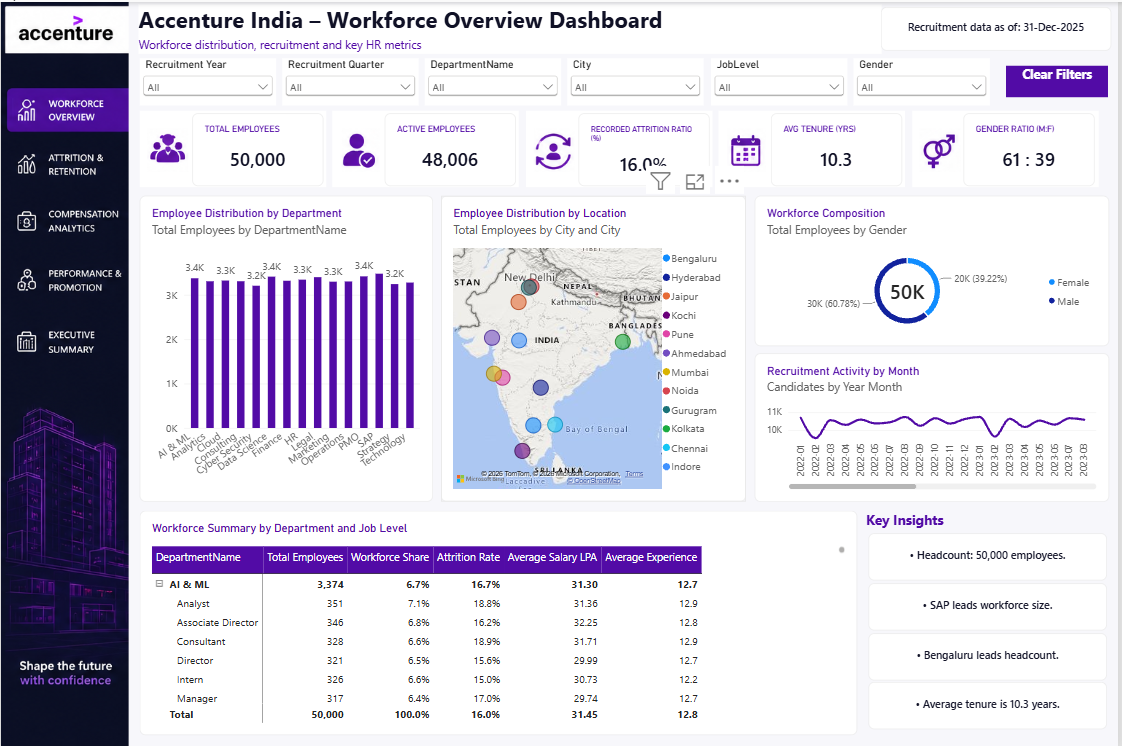

What the dashboard file says about the page in this screenshot:
{"tool":"powerbi","page":{"name":"Workforce Overview","canvas":[1536,1024],"ordinal":0},"visuals":[{"type":"textbox","box":[175,0,1361,1024],"z":1},{"type":"image","box":[0,0,175,1024],"z":2},{"type":"textbox","box":[188,4,1020,43],"z":8},{"type":"textbox","box":[188,46,1020,25],"z":9},{"type":"card","fields":{"Values":["DimEmployee.Reporting Date Label"]},"box":[1208,7,316,60],"z":10},{"type":"slicer","title":"Recruitment Year","fields":{"Values":["DimDate.Year"]},"box":[190,77,187,65],"z":11},{"type":"slicer","title":"Recruitment Quarter","fields":{"Values":["DimDate.Quarter"]},"box":[386,77,187,65],"z":12},{"type":"slicer","title":"Department","fields":{"Values":["DimDepartment.DepartmentName"]},"box":[582,77,187,65],"z":13},{"type":"slicer","title":"Location","fields":{"Values":["DimLocation.City"]},"box":[778,77,187,65],"z":14},{"type":"slicer","title":"Job Level","fields":{"Values":["DimJobLevel.JobLevel"]},"box":[974,77,187,65],"z":15},{"type":"slicer","title":"Gender","fields":{"Values":["DimEmployee.Gender"]},"box":[1170,77,187,65],"z":16},{"type":"textbox","box":[1380,87,140,43],"z":17},{"type":"textbox","box":[190,150,256,105],"z":19},{"type":"image","box":[199,173,60,60],"z":20},{"type":"card","title":"TOTAL EMPLOYEES","fields":{"Values":["DimEmployee.Total Employees"]},"box":[262,152,180,100],"z":21},{"type":"textbox","box":[455,150,256,105],"z":22},{"type":"image","box":[464,173,60,60],"z":23},{"type":"card","title":"ACTIVE EMPLOYEES","fields":{"Values":["DimEmployee.Active Employees"]},"box":[527,152,180,100],"z":24},{"type":"textbox","box":[720,150,256,105],"z":25},{"type":"image","box":[729,173,60,60],"z":26},{"type":"card","title":"RECORDED ATTRITION RATIO (%)","fields":{"Values":["DimEmployee.Attrition Rate"]},"box":[792,152,180,100],"z":27},{"type":"textbox","box":[985,150,256,105],"z":28},{"type":"image","box":[994,173,60,60],"z":29},{"type":"card","title":"AVG TENURE (YRS)","fields":{"Values":["DimEmployee.Average Tenure"]},"box":[1057,152,180,100],"z":30},{"type":"textbox","box":[1250,150,256,105],"z":31},{"type":"image","box":[1259,173,60,60],"z":32},{"type":"card","title":"GENDER RATIO (M:F)","fields":{"Values":["DimEmployee.Gender Ratio"]},"box":[1322,152,180,100],"z":33},{"type":"clusteredColumnChart","title":"Employee Distribution by Department","fields":{"Category":["DimDepartment.DepartmentName"],"Y":["DimEmployee.Total Employees"]},"box":[190,266,402,420],"z":34},{"type":"map","title":"Employee Distribution by Location","fields":{"Category":["DimLocation.City"],"Size":["DimEmployee.Total Employees"],"Series":["DimLocation.City"]},"box":[604,266,418,420],"z":35},{"type":"donutChart","title":"Workforce Composition","fields":{"Category":["DimEmployee.Gender"],"Y":["DimEmployee.Total Employees"]},"box":[1034,266,486,206],"z":36},{"type":"lineChart","title":"Recruitment Activity by Month","fields":{"Category":["DimDate.Year Month"],"Y":["DimEmployee.Candidates"]},"box":[1034,482,486,204],"z":37},{"type":"pivotTable","title":"Workforce Summary by Department and Job Level","fields":{"Rows":["DimDepartment.DepartmentName","DimJobLevel.JobLevel"],"Values":["DimEmployee.Total Employees","DimEmployee.Workforce Share","DimEmployee.Attrition Rate","DimEmployee.Average Salary LPA","DimEmployee.Average Experience"]},"box":[190,698,985,308],"z":38},{"type":"textbox","box":[1187,698,333,30],"z":39},{"type":"card","fields":{"Values":["DimEmployee.W Insight 1"]},"box":[1190,730,327,65],"z":40},{"type":"card","fields":{"Values":["DimEmployee.W Insight 2"]},"box":[1190,798,327,65],"z":41},{"type":"card","fields":{"Values":["DimEmployee.W Insight 3"]},"box":[1190,866,327,65],"z":42},{"type":"card","fields":{"Values":["DimEmployee.W Insight 4"]},"box":[1190,934,327,65],"z":43},{"type":"actionButton","box":[4,115,170,64],"z":902},{"type":"actionButton","box":[4,190,170,64],"z":903},{"type":"actionButton","box":[4,265,170,64],"z":904},{"type":"actionButton","box":[4,340,170,64],"z":905},{"type":"actionButton","box":[4,415,170,64],"z":906},{"type":"actionButton","box":[1380,87,140,43],"z":917}]}

Visuals, with their boxes on the page's 1536x1024 design canvas (x1, y1, x2, y2). These are canvas units, not pixel positions in the 1122x746 screenshot, which may show the page scaled, cropped or inside an application window:
textbox: l=175, t=0, r=1536, b=1024
image: l=0, t=0, r=175, b=1024
textbox: l=188, t=4, r=1208, b=47
textbox: l=188, t=46, r=1208, b=71
card - DimEmployee.Reporting Date Label: l=1208, t=7, r=1524, b=67
"Recruitment Year" slicer: l=190, t=77, r=377, b=142
"Recruitment Quarter" slicer: l=386, t=77, r=573, b=142
"Department" slicer: l=582, t=77, r=769, b=142
"Location" slicer: l=778, t=77, r=965, b=142
"Job Level" slicer: l=974, t=77, r=1161, b=142
"Gender" slicer: l=1170, t=77, r=1357, b=142
textbox: l=1380, t=87, r=1520, b=130
textbox: l=190, t=150, r=446, b=255
image: l=199, t=173, r=259, b=233
"TOTAL EMPLOYEES" card: l=262, t=152, r=442, b=252
textbox: l=455, t=150, r=711, b=255
image: l=464, t=173, r=524, b=233
"ACTIVE EMPLOYEES" card: l=527, t=152, r=707, b=252
textbox: l=720, t=150, r=976, b=255
image: l=729, t=173, r=789, b=233
"RECORDED ATTRITION RATIO (%)" card: l=792, t=152, r=972, b=252
textbox: l=985, t=150, r=1241, b=255
image: l=994, t=173, r=1054, b=233
"AVG TENURE (YRS)" card: l=1057, t=152, r=1237, b=252
textbox: l=1250, t=150, r=1506, b=255
image: l=1259, t=173, r=1319, b=233
"GENDER RATIO (M:F)" card: l=1322, t=152, r=1502, b=252
"Employee Distribution by Department" clusteredColumnChart: l=190, t=266, r=592, b=686
"Employee Distribution by Location" map: l=604, t=266, r=1022, b=686
"Workforce Composition" donutChart: l=1034, t=266, r=1520, b=472
"Recruitment Activity by Month" lineChart: l=1034, t=482, r=1520, b=686
"Workforce Summary by Department and Job Level" pivotTable: l=190, t=698, r=1175, b=1006
textbox: l=1187, t=698, r=1520, b=728
card - DimEmployee.W Insight 1: l=1190, t=730, r=1517, b=795
card - DimEmployee.W Insight 2: l=1190, t=798, r=1517, b=863
card - DimEmployee.W Insight 3: l=1190, t=866, r=1517, b=931
card - DimEmployee.W Insight 4: l=1190, t=934, r=1517, b=999
actionButton: l=4, t=115, r=174, b=179
actionButton: l=4, t=190, r=174, b=254
actionButton: l=4, t=265, r=174, b=329
actionButton: l=4, t=340, r=174, b=404
actionButton: l=4, t=415, r=174, b=479
actionButton: l=1380, t=87, r=1520, b=130
